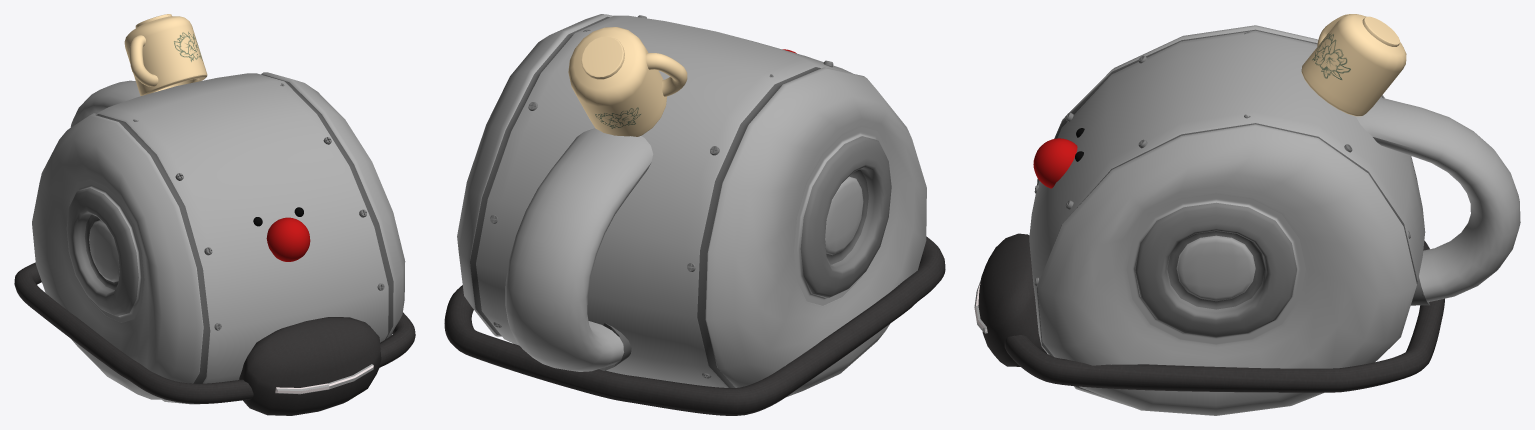
File: kopi final export.fbx
3 renders of one model, left to right at view 1: azimuth 30°, elevation 25°; view 2: azimuth 150°, elevation 25°; view 3: azimuth 270°, elevation 25°, orthographic. The views are drawn at different scales.
Parts seen in each view (by area): view 1: polySurface49; view 2: polySurface49; view 3: polySurface49.
Boxes of the visible parts, <box> form: polySurface49: <box>14,14,415,415</box>; polySurface49: <box>444,14,945,415</box>; polySurface49: <box>974,14,1520,415</box>.
Size of the model in its own units: 70.81 by 76.35 by 103.
Materials: 10 (4 with a texture image).
